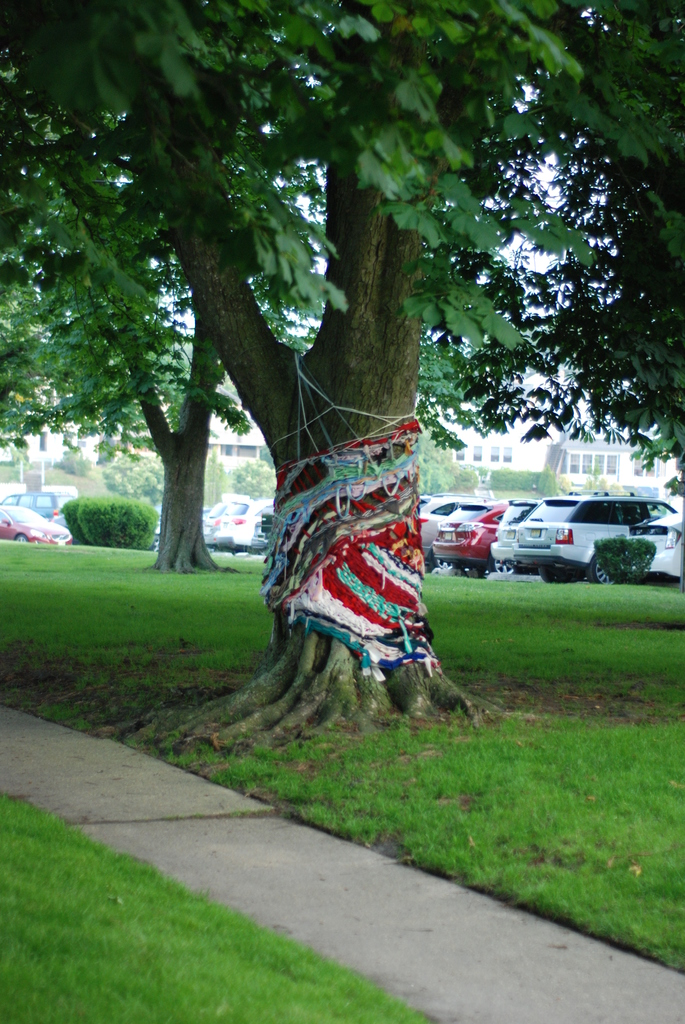Car: (0, 490, 684, 586)
